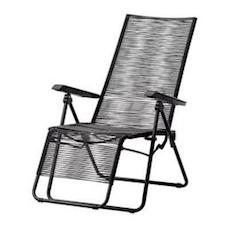chair: (38, 4, 200, 215)
